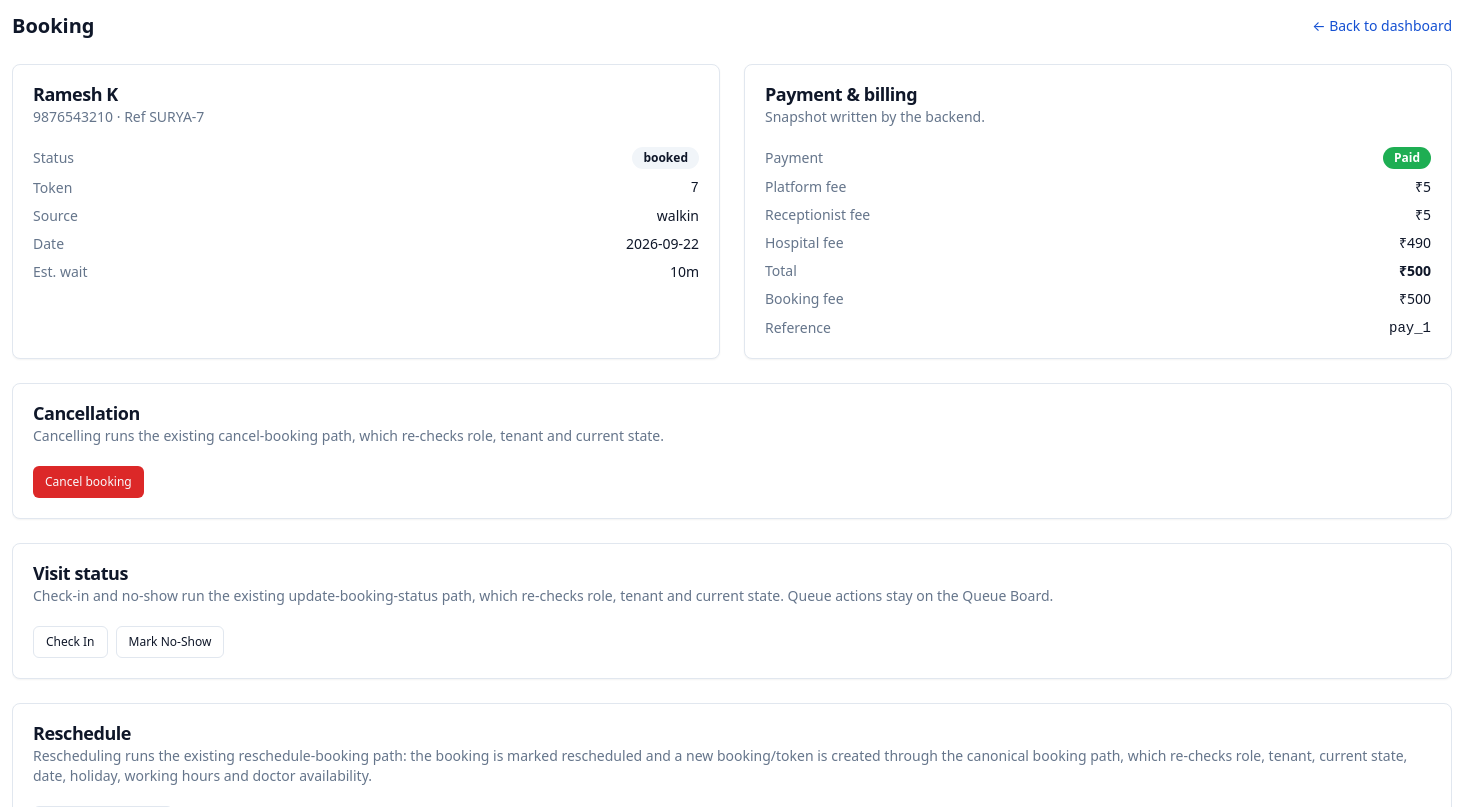
BookingDetail status-closure control › surfaces a concurrency rejection honestly and reloads
Check: the heading "Ramesh K" is shown, box [33, 82, 118, 106]
Click the button "Check In": (70, 642) [33, 626, 108, 658]
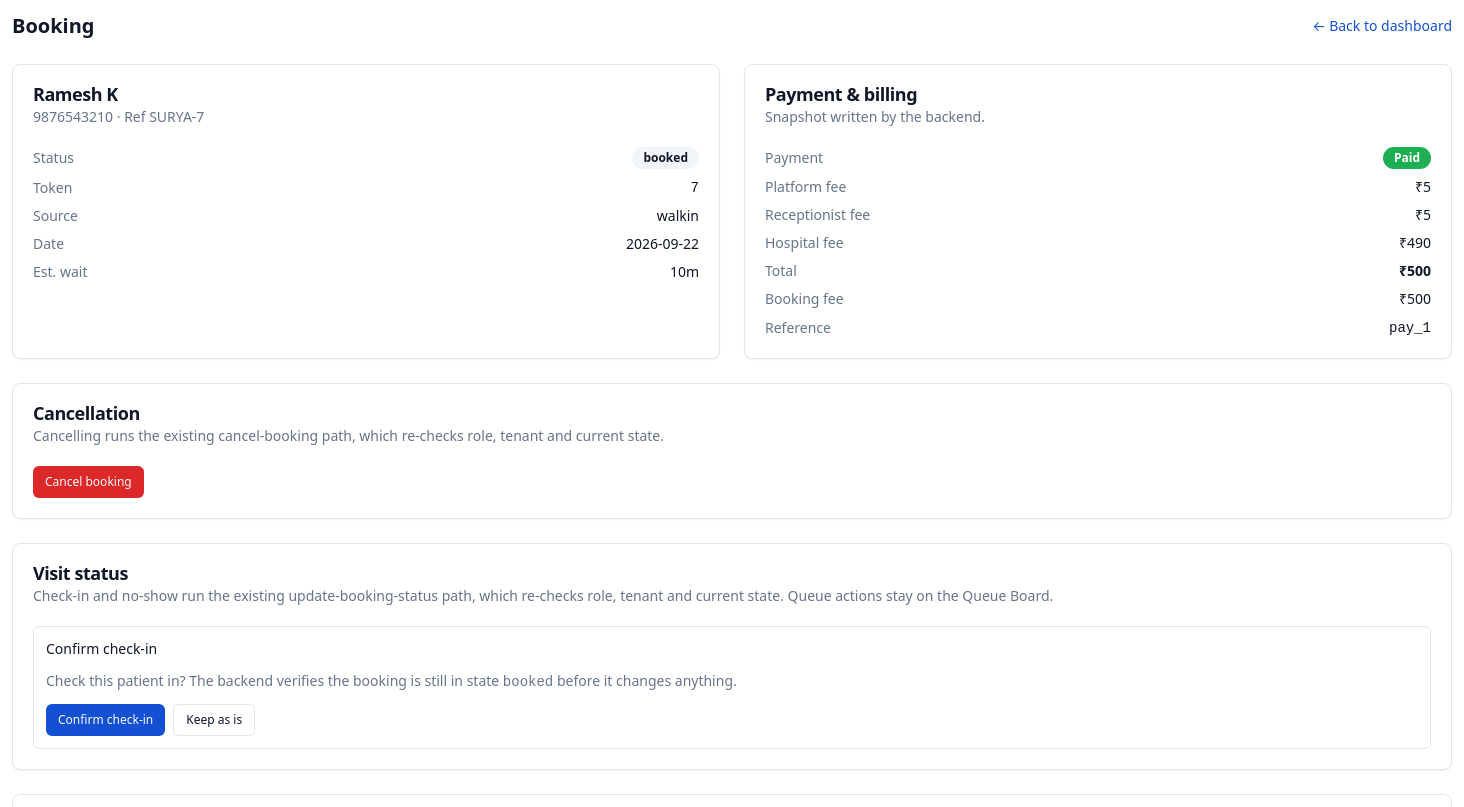
Click the button "Confirm check-in": (106, 720) [46, 704, 165, 736]
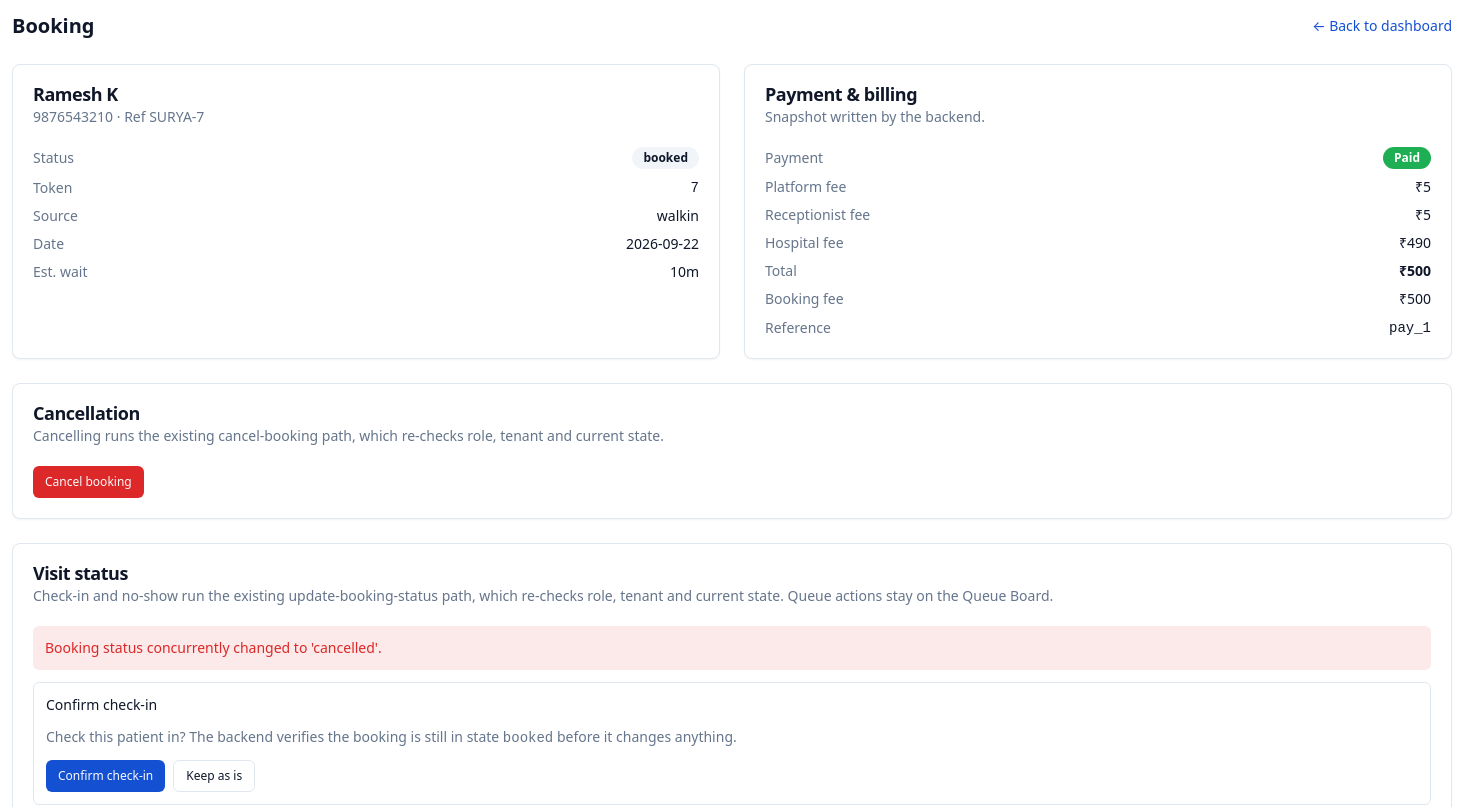
Check: the heading "Ramesh K" is shown, box [33, 82, 118, 106]
Check: the message shows "concurrently changed", box [45, 638, 382, 657]
